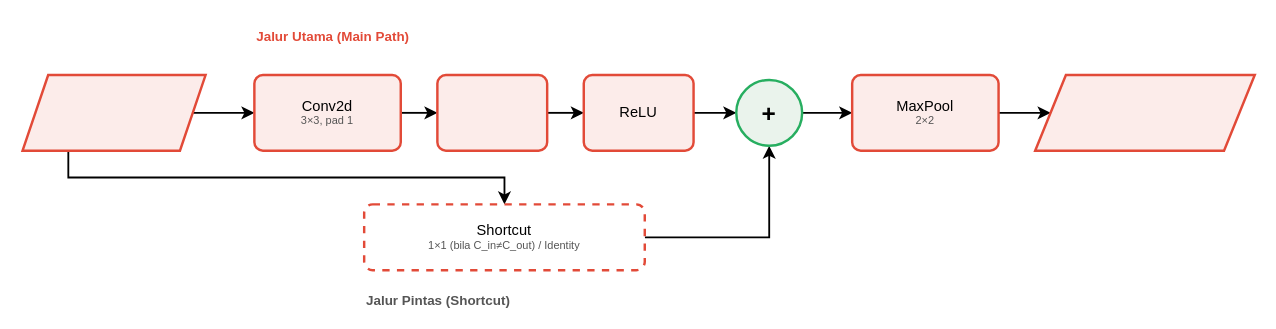
The diagram is 1276 pixels wide and 329 high, and some of its shapes have lost their labels. Here are the shapes that lost their labels. From the top down, the centre of each, then its label:
At (113,112): "Input (C_in, H, W)".
At (492,112): "BatchNorm".
At (1144,112): "Output (C_out, H/2, W/2)".
